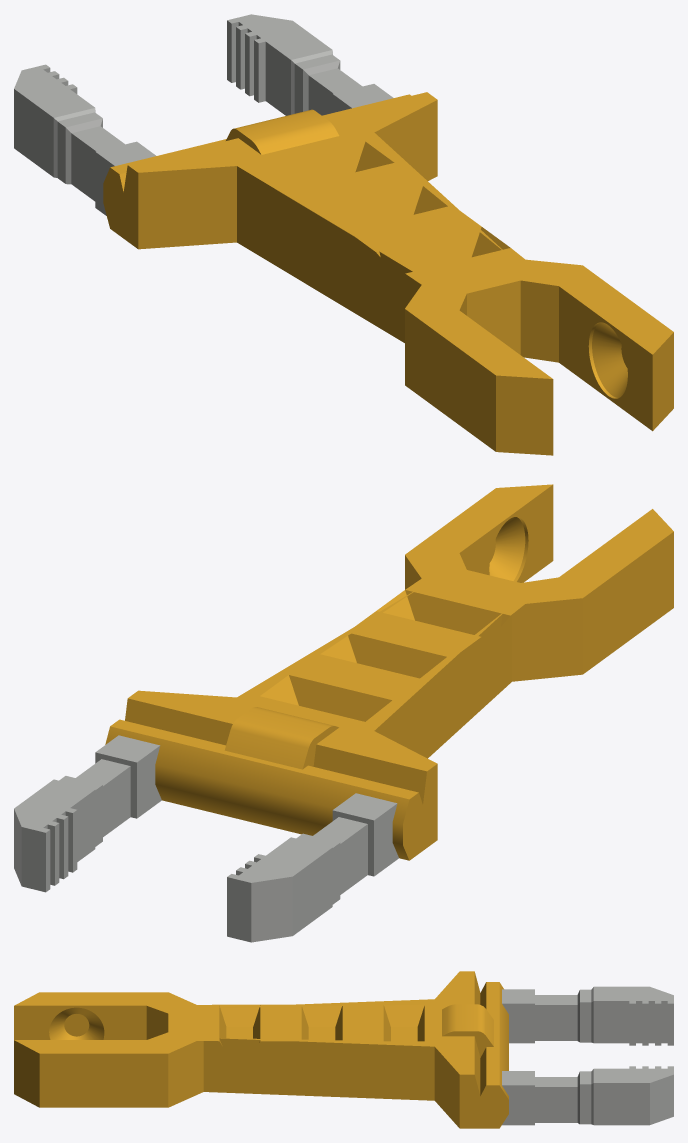
Rendered from inserter-arm-basic-hand-closed.glb.
The picture shows the model from 3 angles, top to bottom: view 1: azimuth 30°, elevation 25°; view 2: azimuth 150°, elevation 25°; view 3: azimuth 270°, elevation 25°; orthographic projection. The views are drawn at different scales.
Visible parts, largest first — view 1: body; view 2: body; view 3: body.
Part boxes in pixels (x1=…): body: x1=14, y1=14, x2=673, y2=455; body: x1=14, y1=484, x2=673, y2=942; body: x1=14, y1=971, x2=673, y2=1128.
Bounding box in the file's own units: 0.3696 × 0.099 × 0.9974.
